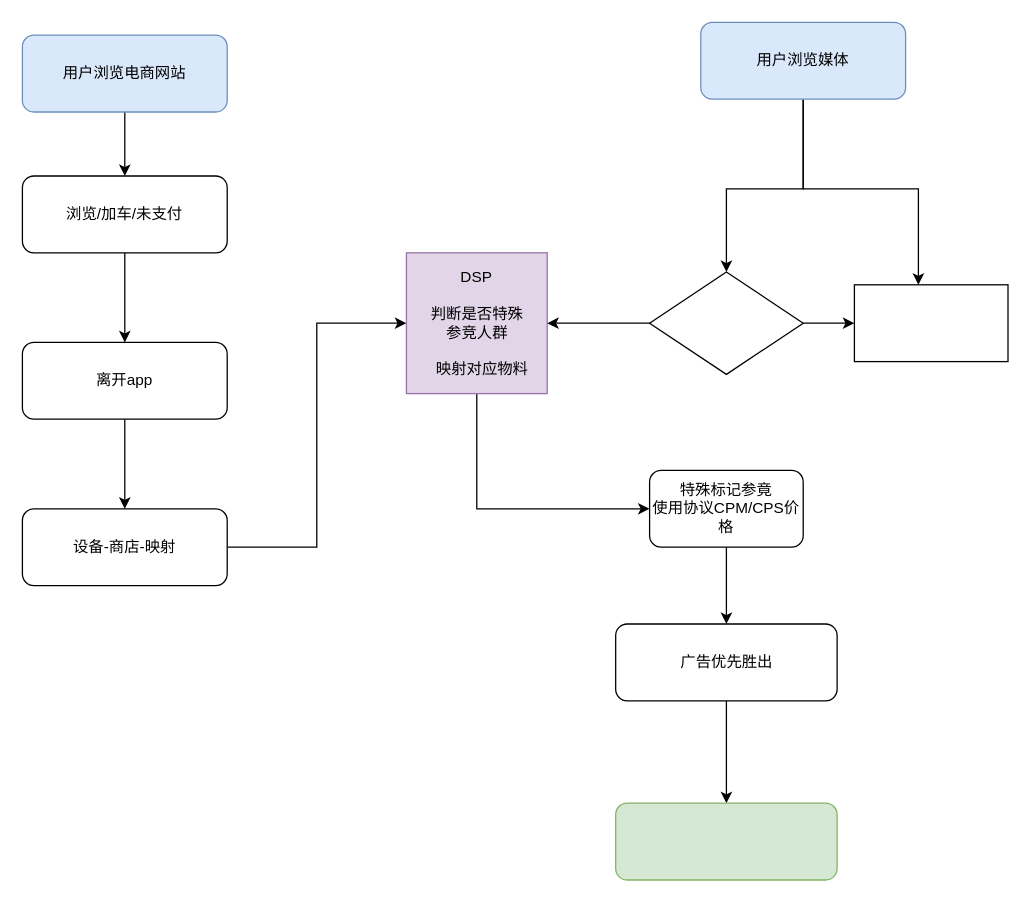
Some shapes in this 1030 by 902 pixel diagram are drawn without their labels. Here are the shapes that lost their labels. From the top down, the centre of each, then its label:
the point at 725,322: 是否重定向人群
the point at 930,323: 普通召回
the point at 725,841: 用户看到广告
